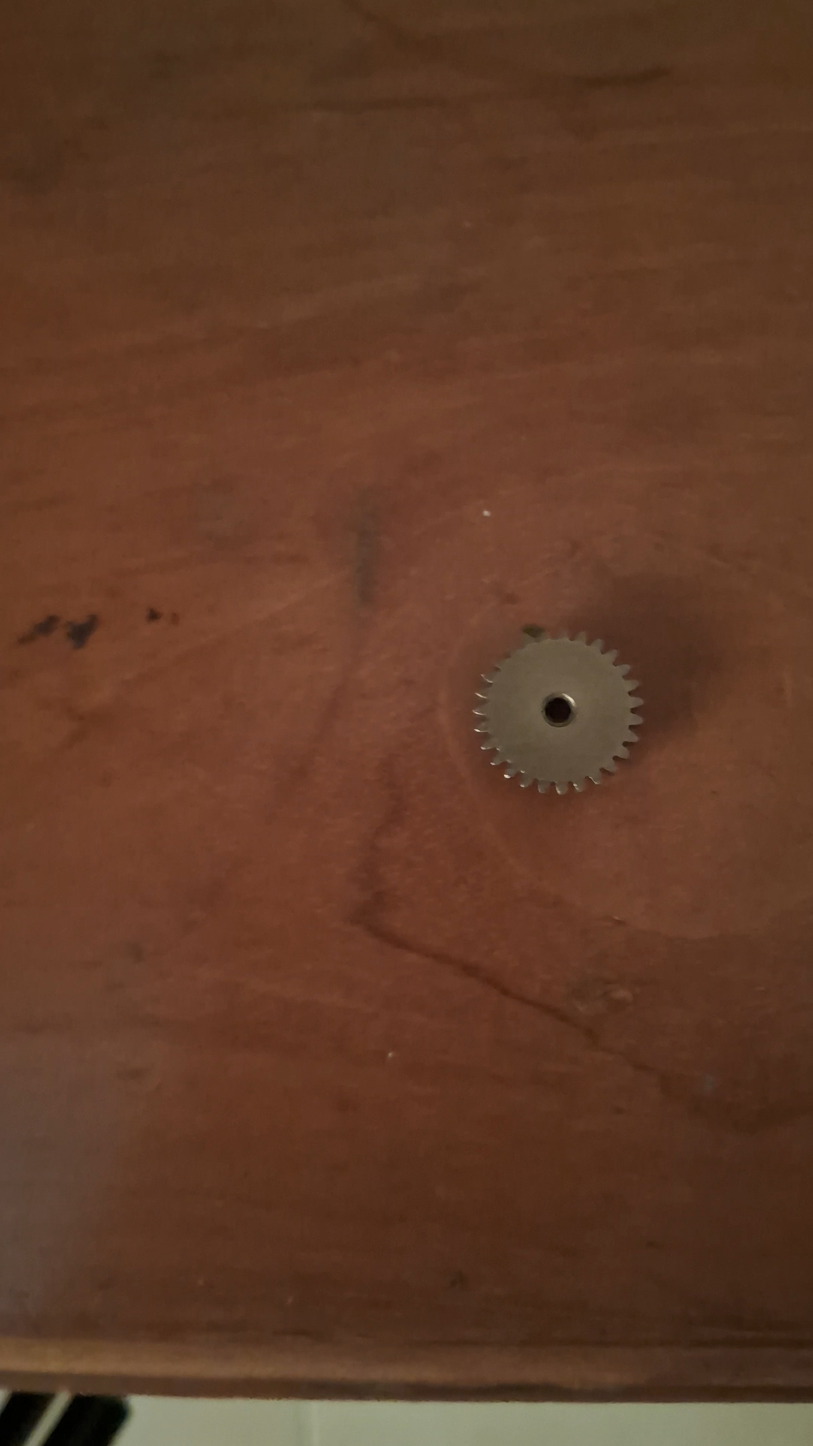spur gear: (475, 630, 642, 793)
